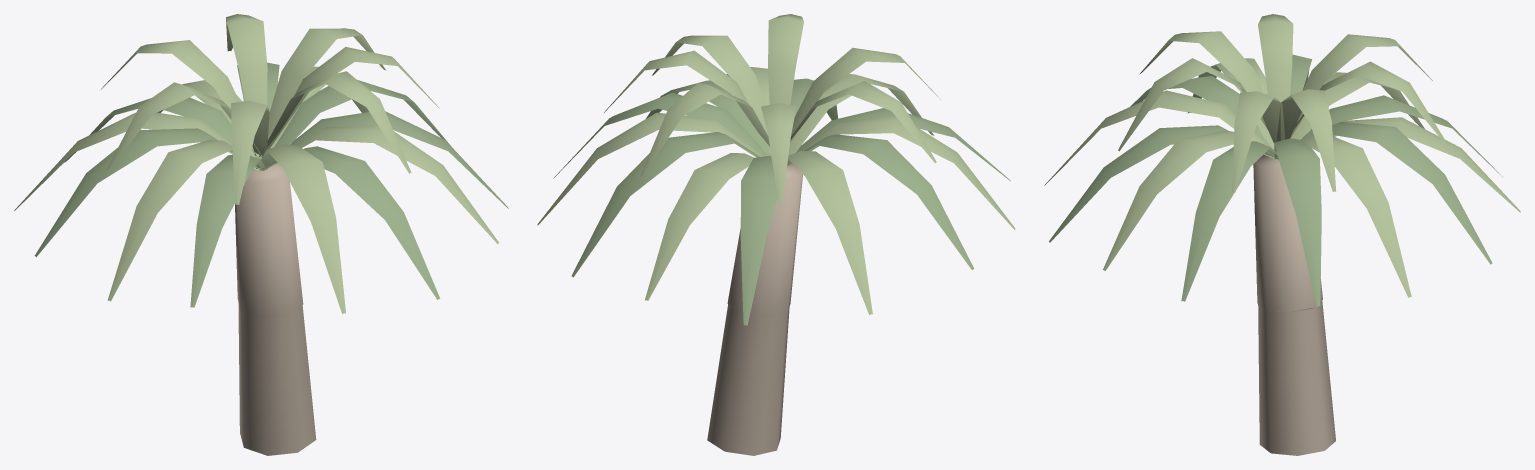
Rendered from small_palm_2.glb.
The picture shows the model from 3 angles, left to right: view 1: azimuth 30°, elevation 25°; view 2: azimuth 150°, elevation 25°; view 3: azimuth 270°, elevation 25°; orthographic projection. The views are drawn at different scales.
Parts seen in each view (by area): view 1: small_palm_2.glb; view 2: small_palm_2.glb; view 3: small_palm_2.glb.
Part boxes in pixels (bbox=[...]): small_palm_2.glb: bbox=[14, 14, 508, 455]; small_palm_2.glb: bbox=[537, 14, 1015, 455]; small_palm_2.glb: bbox=[1044, 14, 1520, 455].
Size of the model in its own units: 2.87 by 2.57 by 2.87.
